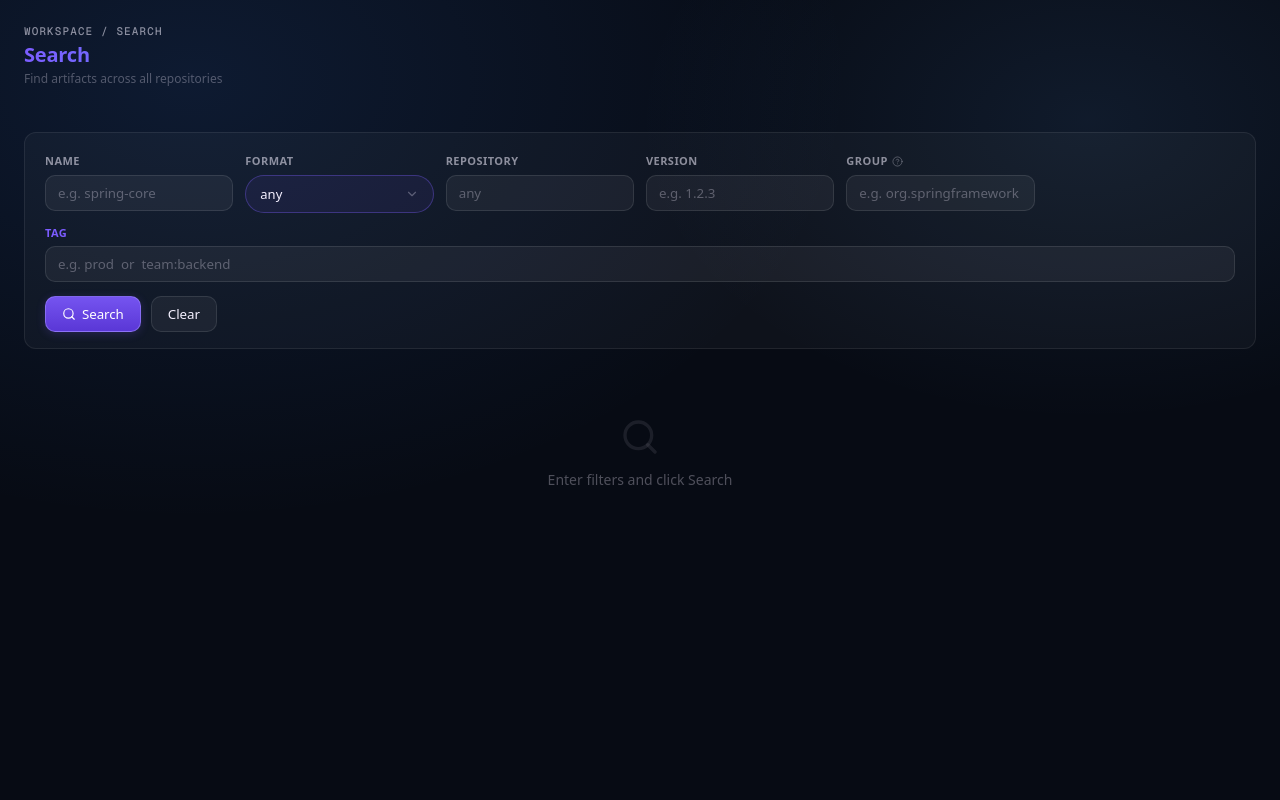
SearchPage › renders oci digest aliases inside the expanded parent tag
Type "mychart" into the field with placeholder "e.g. spring-core" at (139, 193), box [45,175,233,211]
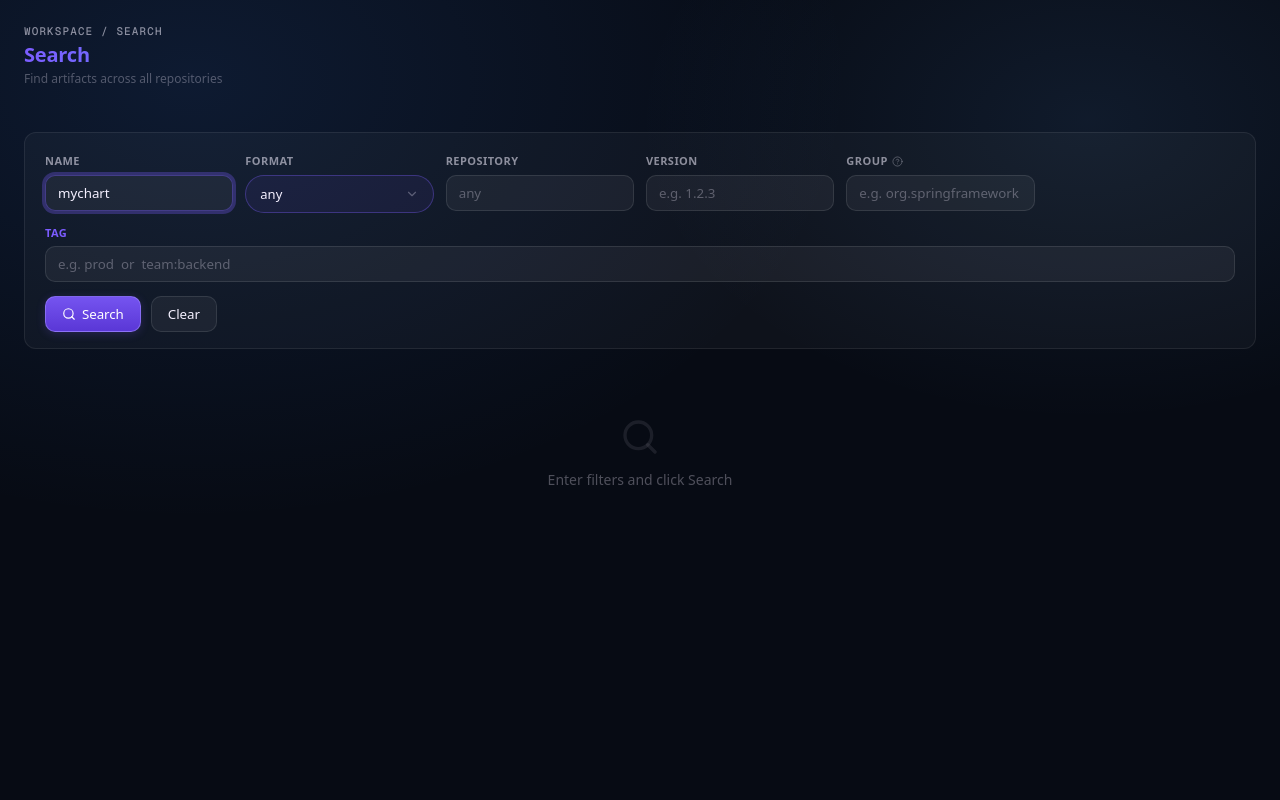
Click the button "Search" at (93, 314), box [45,296,141,332]
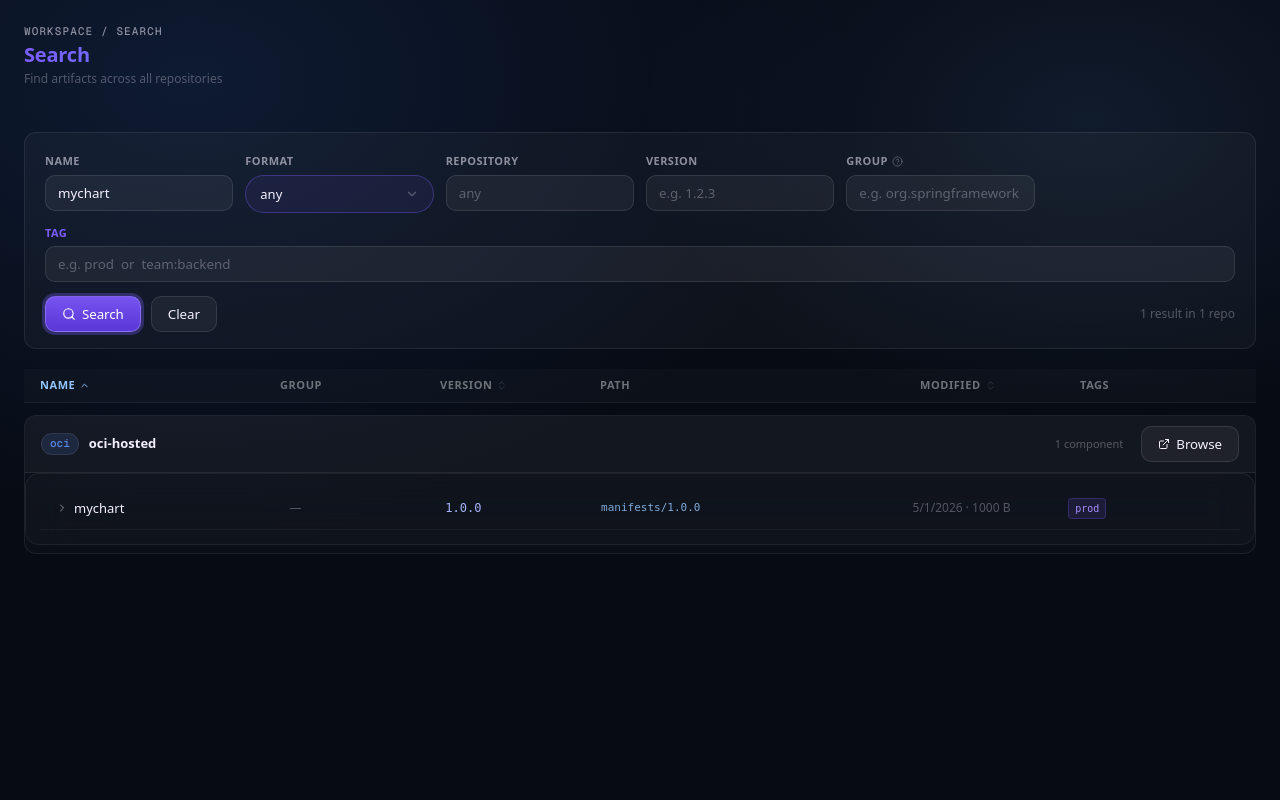
Expected: the text "mychart" is shown, [56,499,124,517]
Expected: the text "1.0.0" is shown, [445,501,481,515]
# Expand and look for digest aliases section
Click the element named "Expand assets" at (62, 508), box [56,502,68,514]
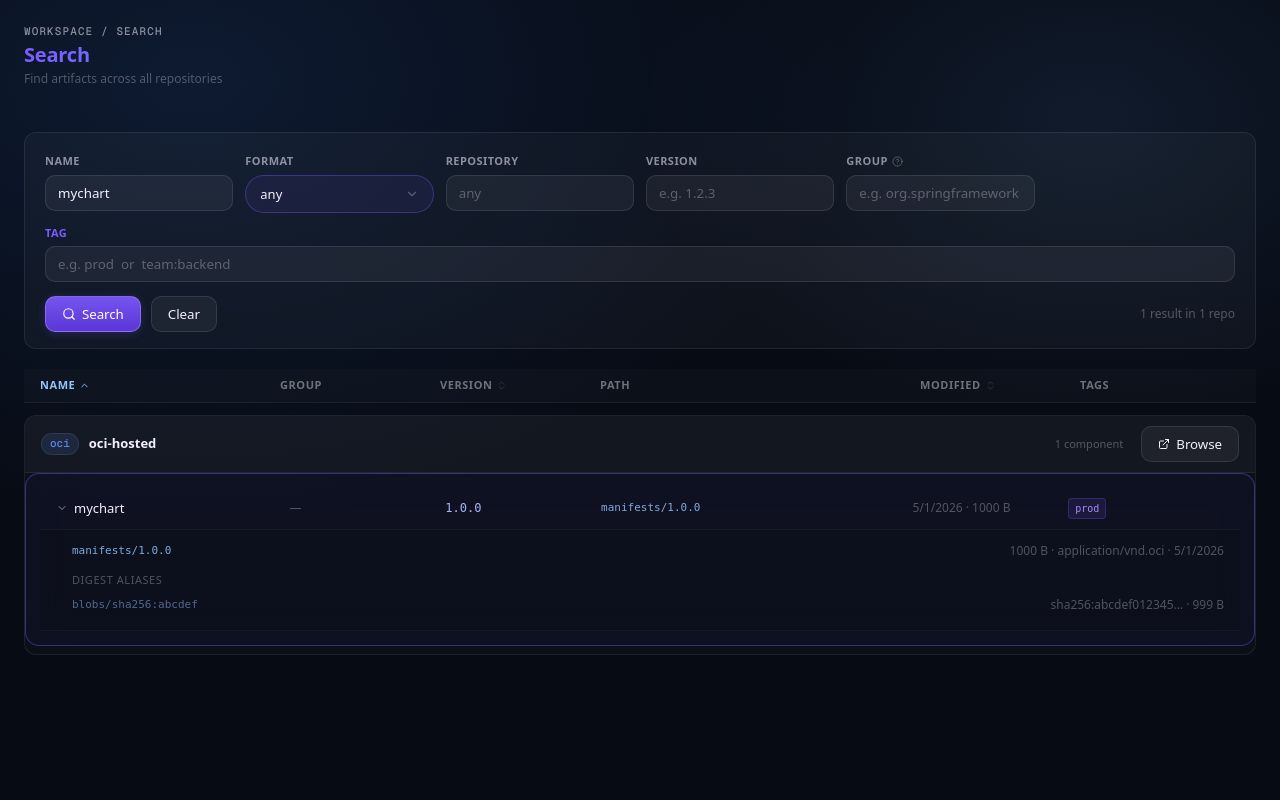
Expected: the text "Digest aliases" is shown, [72,572,162,587]
Expected: the text "blobs/sha256:abcdef" is shown, [72,597,198,614]
